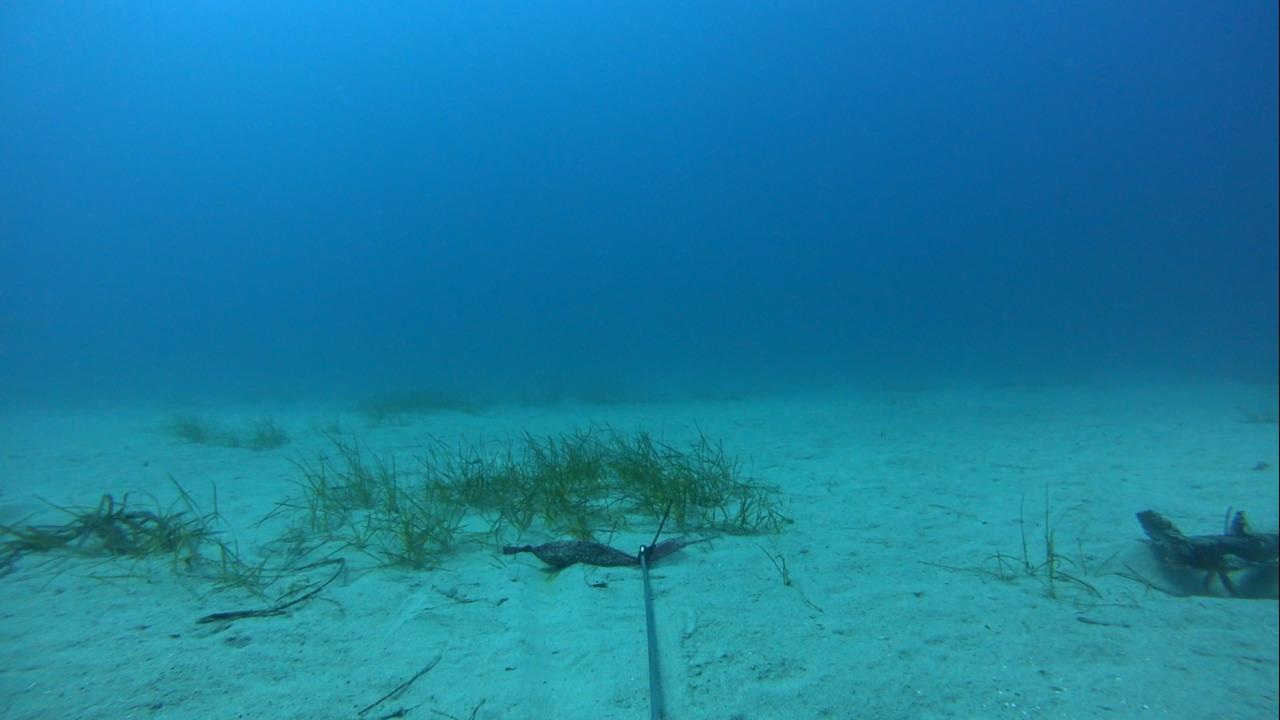dactylopterus: (1128, 494, 1279, 599)
